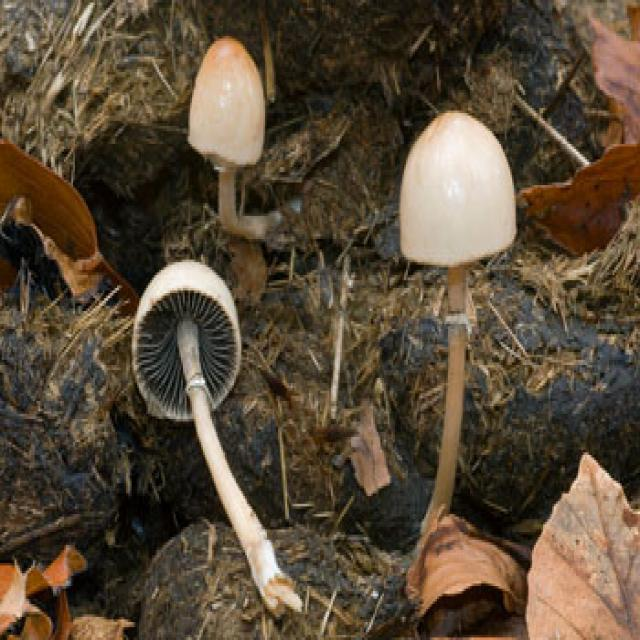Coprinus comatus: (132, 265, 310, 608), (402, 109, 516, 528), (189, 36, 264, 216)
